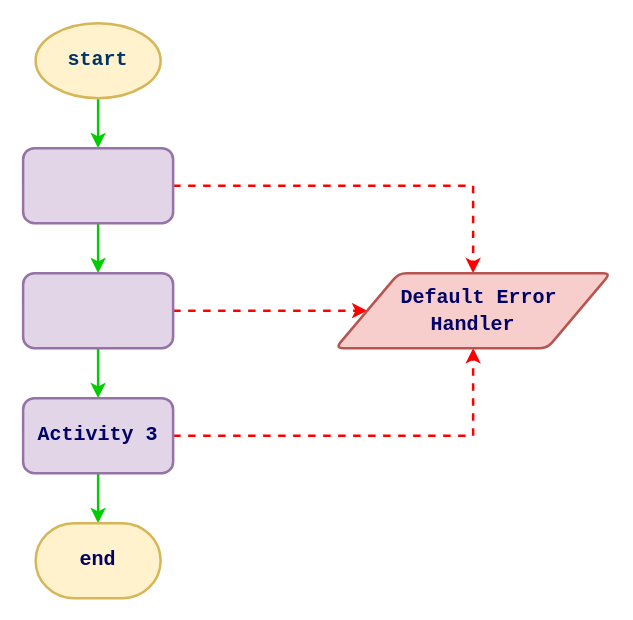
Image size: 633x620. Some labels were removed from this diagram. Each missing label, with the centre of its shape:
Activity 1: (97,185)
Activity 2: (97,310)
